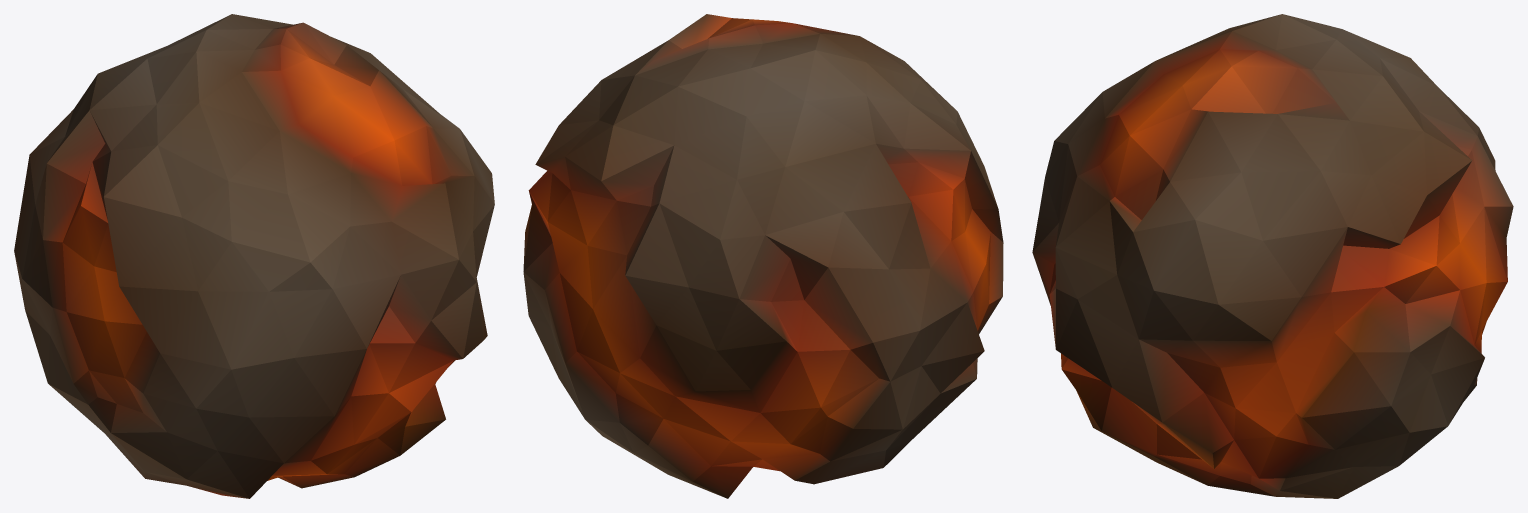
File: Generic_Planets_Planet_Generic_Volcanic.fbx
The picture shows the model from 3 angles, left to right: view 1: azimuth 30°, elevation 25°; view 2: azimuth 150°, elevation 25°; view 3: azimuth 270°, elevation 25°; orthographic projection.
Parts seen in each view (by area): view 1: Planet_Generic_Volcanic; view 2: Planet_Generic_Volcanic; view 3: Planet_Generic_Volcanic.
Boxes of the visible parts, x1,y1,x2,y2 form: Planet_Generic_Volcanic: (14, 14, 494, 498); Planet_Generic_Volcanic: (523, 14, 1003, 498); Planet_Generic_Volcanic: (1032, 14, 1513, 498).
Size of the model in its own units: 19.4 by 19.63 by 19.71.
